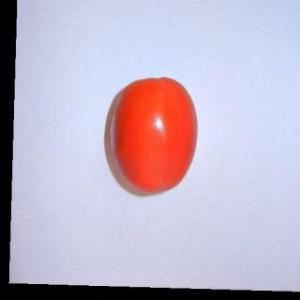tomato: (100, 65, 210, 215)
